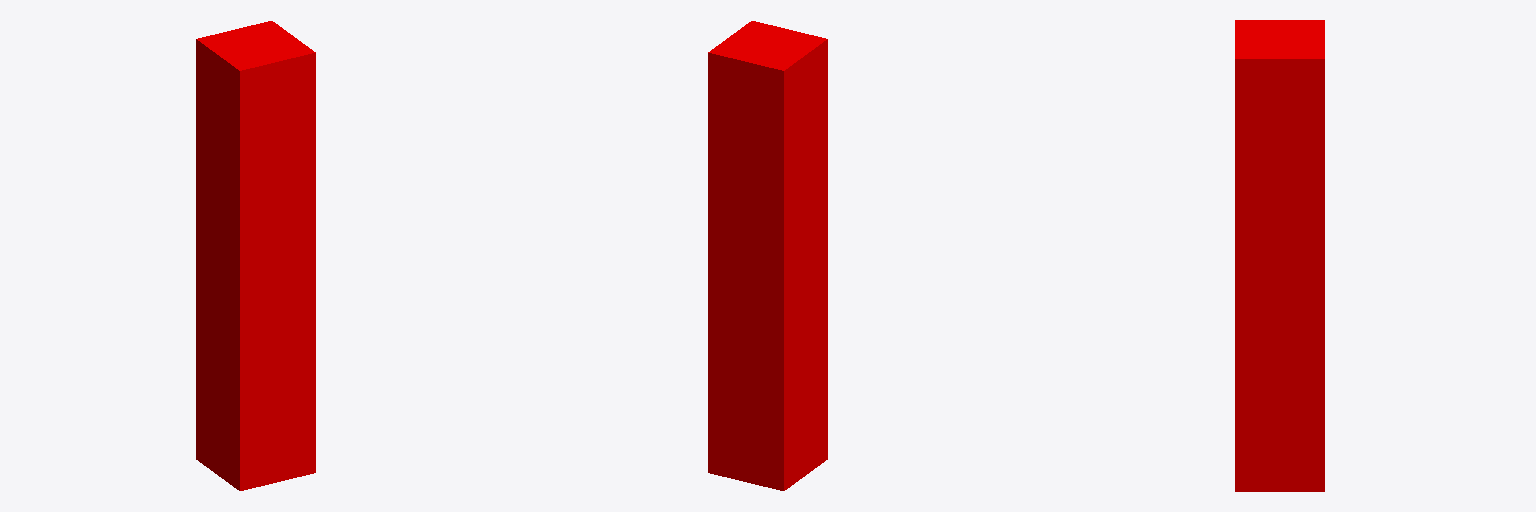
robot.urdf — stick:
<?xml version="1.0" ?>
<robot name="stick">
  <link name="baseLink">
    <contact>
      <lateral_friction value="1.0"/>
      <rolling_friction value="1.0"/>
      <spinning_friction value="1.0"/>
      <!--contact_cfm value="0.0"/-->
      <!--contact_erp value="1.0"/-->
    </contact>
    <inertial>
      <origin rpy="0 0 0" xyz="0 0 0"/>
       <mass value="1.0"/>
       <inertia ixx="1" ixy="0" ixz="0" iyy="1" iyz="0" izz="1"/>
    </inertial>
    <visual>
      <origin rpy="0 0 0" xyz="0 0 0"/>
      <geometry>
				<box size="0.017 0.017 0.09"/>
      </geometry>
       <material name="red">
        <color rgba="1 0 0 1"/>
      </material>
    </visual>
    <collision>
      <origin rpy="0 0 0" xyz="0 0 0"/>
      <geometry>
	 	  <box size="0.017 0.017 0.09"/>
      </geometry>
    </collision>
  </link>
</robot>

--- Render facts (derived) ---
3 views of the same robot in one strip: view 1: azimuth 30°, elevation 25°; view 2: azimuth 150°, elevation 25°; view 3: azimuth 270°, elevation 25° (orthographic).
Model stick with 1 links and 0 joints (none), rooted at baseLink, posed every joint at zero.
Links seen in each view (by area): view 1: baseLink; view 2: baseLink; view 3: baseLink.
Link boxes in pixels (x1=…): baseLink: x1=196, y1=21, x2=315, y2=490; baseLink: x1=708, y1=21, x2=827, y2=490; baseLink: x1=1235, y1=20, x2=1324, y2=491.
Bounding box of the posed robot: 0.017 × 0.017 × 0.09 m (x, y, z).
Geometry: primitives only (box / cylinder / sphere), no mesh files.
